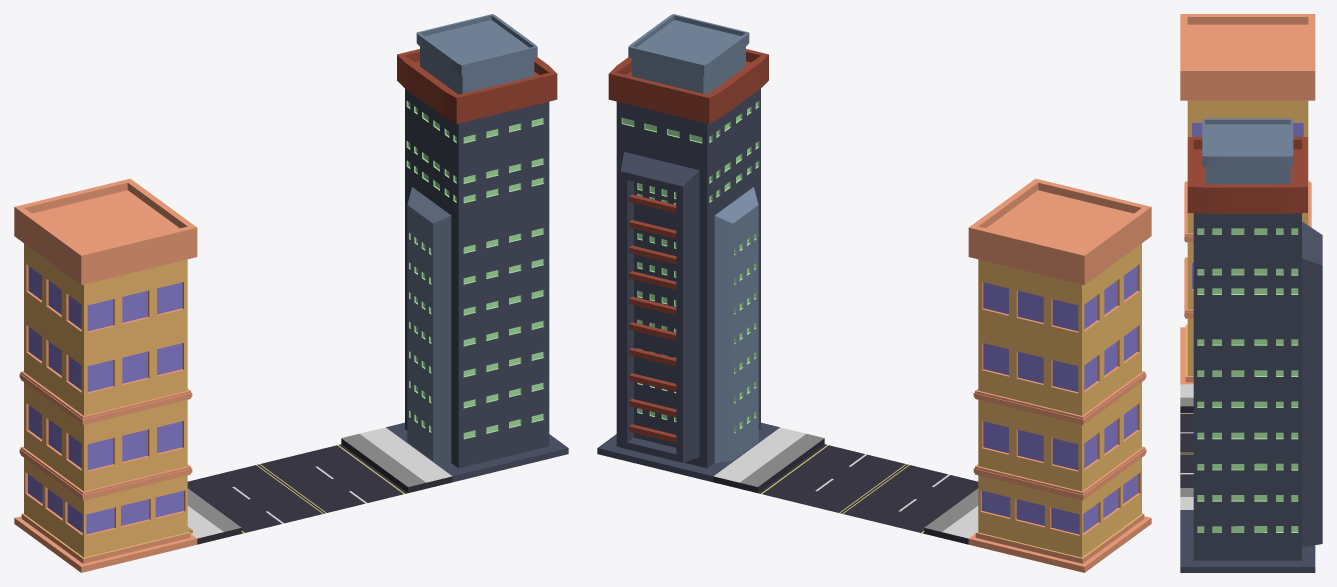
File: Road set 2.fbx
The picture shows the model from 3 angles, left to right: view 1: azimuth 30°, elevation 25°; view 2: azimuth 150°, elevation 25°; view 3: azimuth 270°, elevation 25°; orthographic projection.
Visible parts, largest first — view 1: Road set - 2; view 2: Road set - 2; view 3: Road set - 2.
Boxes of the visible parts, x1,y1,x2,y2 form: Road set - 2: (14, 14, 568, 572); Road set - 2: (597, 14, 1151, 572); Road set - 2: (1180, 14, 1322, 572).
Bounding box in the file's own units: 42 × 33.28 × 10.54.
